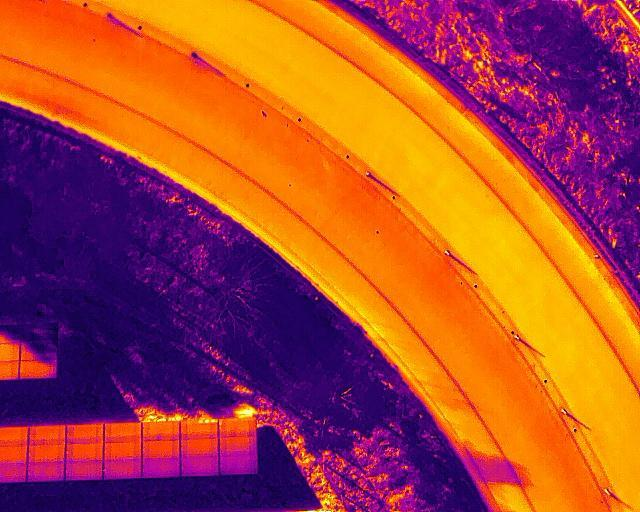Cell-Multi: (181, 419, 218, 438)
No-Anomaly: (218, 451, 257, 475), (142, 455, 181, 476), (104, 456, 141, 478), (142, 435, 180, 456), (182, 434, 218, 456), (66, 440, 103, 461), (65, 460, 103, 480), (182, 455, 220, 475), (27, 462, 66, 481), (103, 439, 143, 457), (28, 443, 65, 461), (219, 434, 256, 452), (104, 422, 141, 440), (219, 418, 254, 437), (28, 425, 65, 442), (142, 419, 179, 436), (67, 424, 104, 440)
Shadowing: (21, 341, 56, 361), (19, 360, 56, 377), (21, 323, 58, 340)
